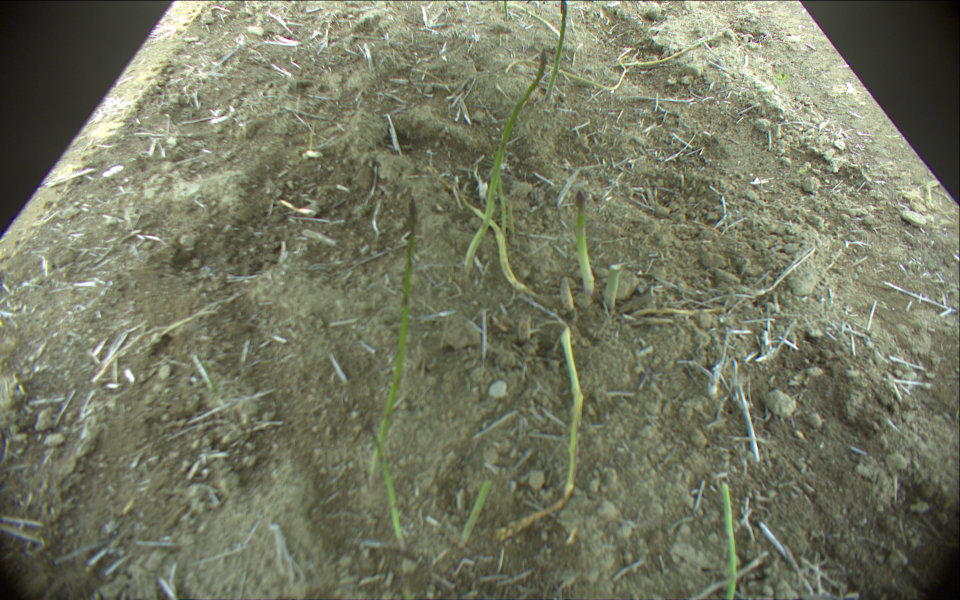aspa: (492, 328, 582, 540), (465, 46, 548, 269), (368, 200, 418, 479), (447, 181, 538, 296), (363, 415, 407, 550), (575, 189, 597, 299), (454, 479, 490, 546), (546, 1, 570, 99), (720, 480, 738, 600), (492, 172, 510, 232), (604, 259, 623, 312), (558, 276, 575, 311), (505, 205, 517, 233), (501, 1, 512, 19)
